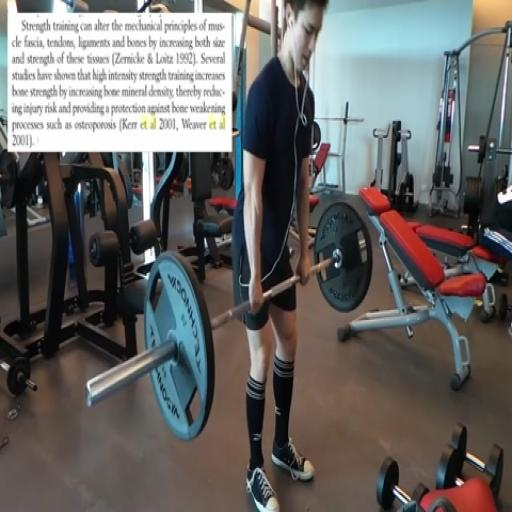exercise: (231, 0, 332, 511)
